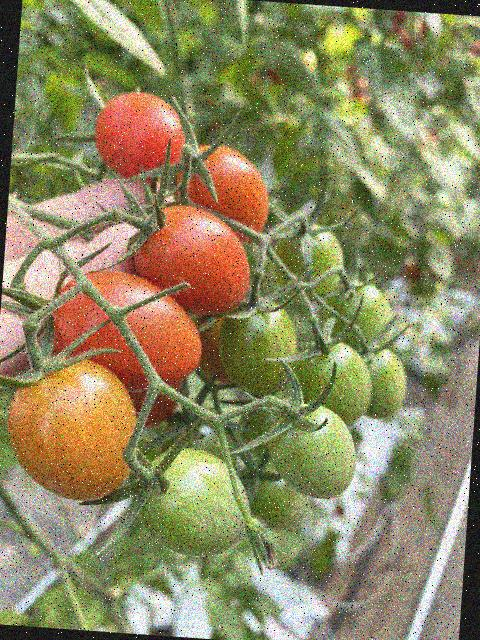l_fully_ripened: (43, 266, 209, 397), (129, 202, 255, 319), (170, 140, 273, 247), (91, 89, 189, 185)
l_green: (134, 445, 257, 560), (263, 400, 361, 501), (216, 294, 300, 398), (284, 333, 374, 426), (270, 220, 345, 304), (235, 455, 313, 532), (320, 277, 394, 354), (159, 407, 239, 473), (353, 345, 408, 422)
l_half_ripened: (2, 351, 144, 504)
